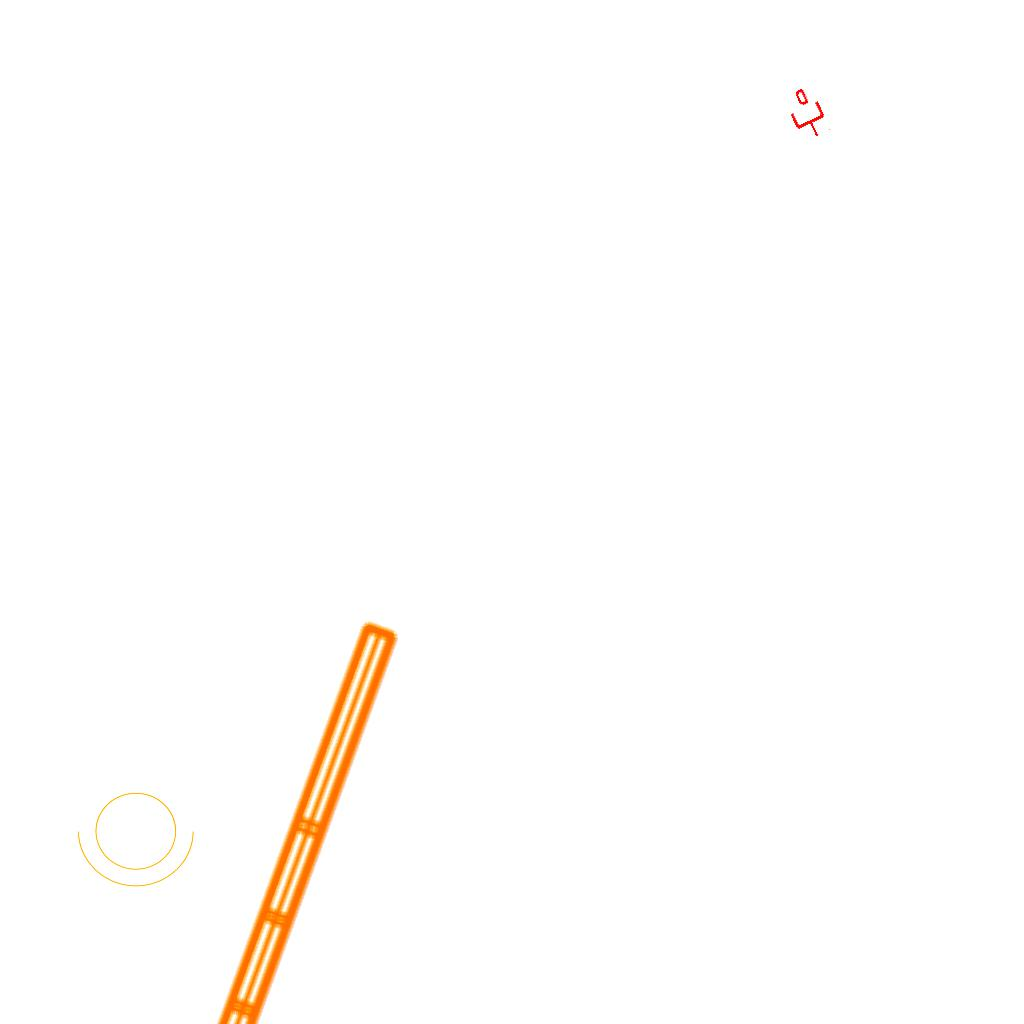Ambulanz_Pendelleuchte_LED: (92, 606, 462, 1024)
Datenanschluss_einfach: (781, 84, 833, 144)
Scheinwerfer_fuer_Alarmbeleuchtung: (73, 780, 205, 892)
